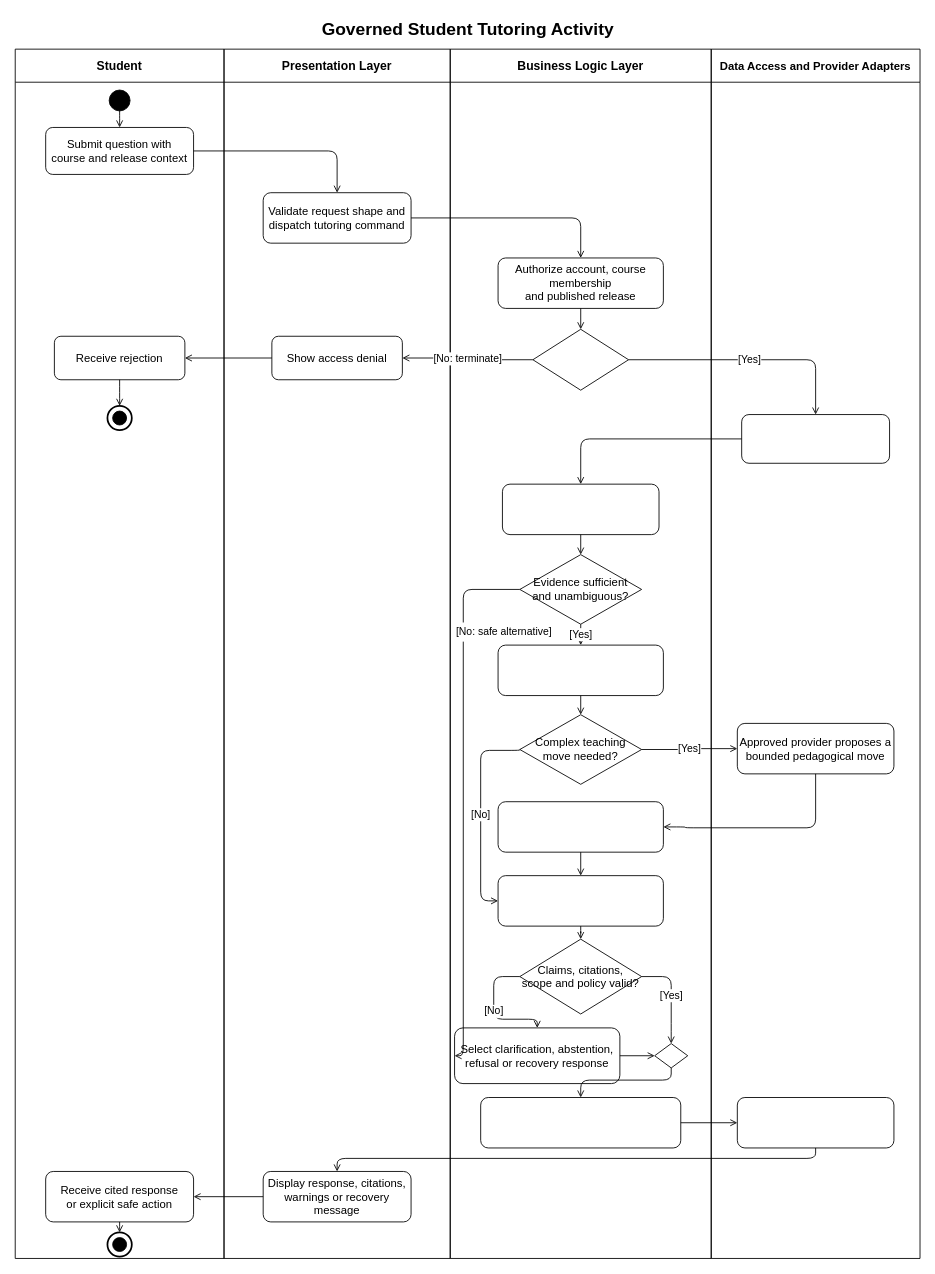
The diagram is 935 pixels wide and 1274 high, and some of its shapes have lost their labels. The shapes that lost their labels are listed below. From the top down, each one's centre as x and y in pixels, then its label:
point (580, 359): Authorized?
point (815, 438): Retrieve approved, active course evidence
point (580, 509): Validate scope, completeness and reference identity
point (580, 670): Apply deterministic action policy and professor constraints
point (580, 826): Constrain proposal to allowed event-scoped actions
point (580, 900): Compile evidence into claims and exact actions
point (580, 1122): Assemble response, learner-state delta, trace, usage and outbox
point (815, 1122): Commit transaction atomically and return durable outcome
